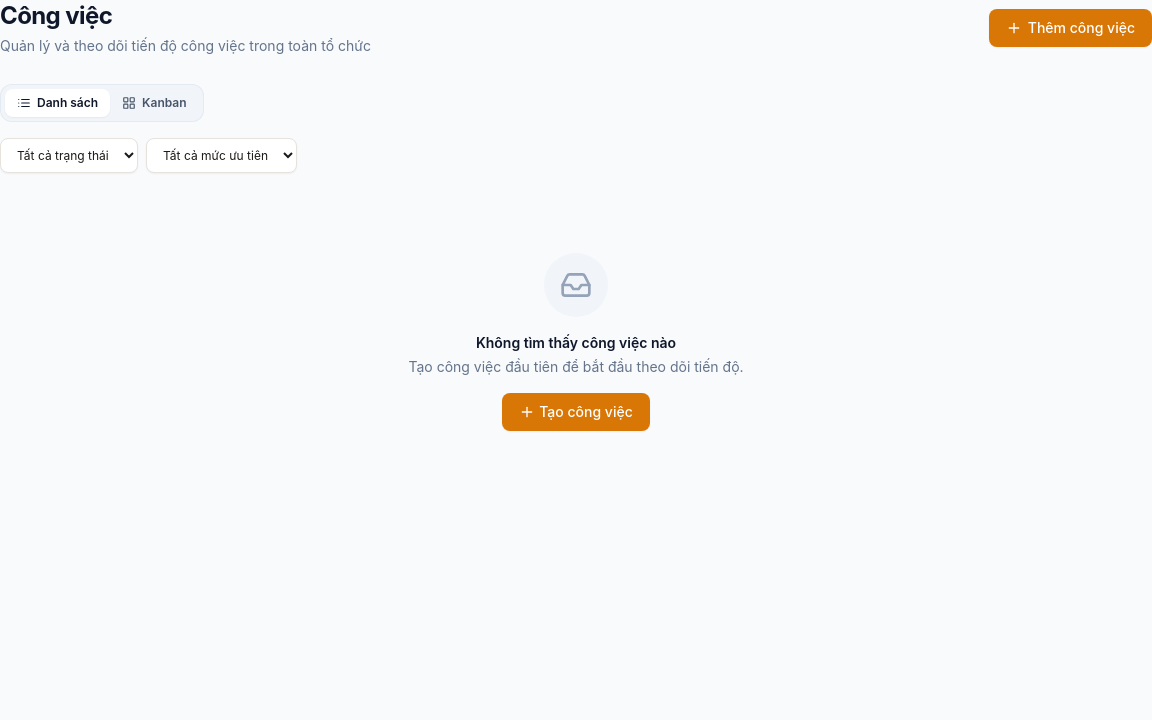
DXOS-FRONTEND-003: Feature-level Permission UX Tests › Tasks Feature Permissions › hides Assignee field in Create Modal when user has task:create but lacks task:assign
Click the button "Thêm công việc" at (1070, 28), box [989, 9, 1151, 47]
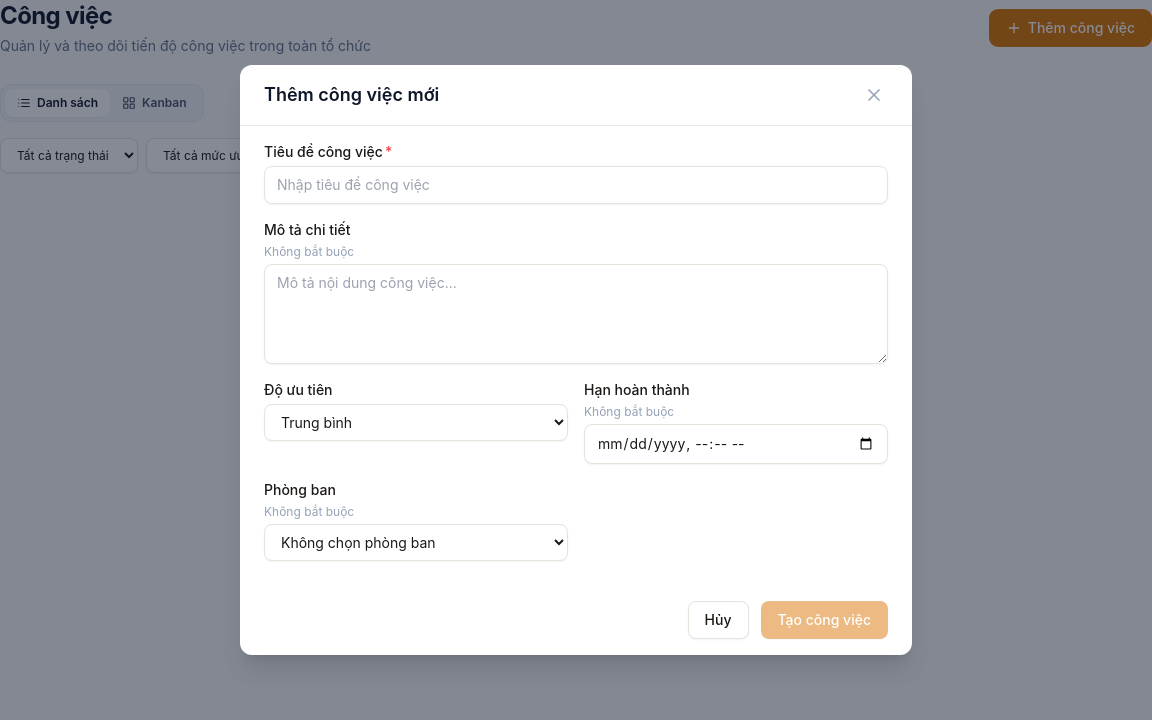
Check: the heading "Thêm công việc mới" is shown, box [264, 81, 439, 109]
